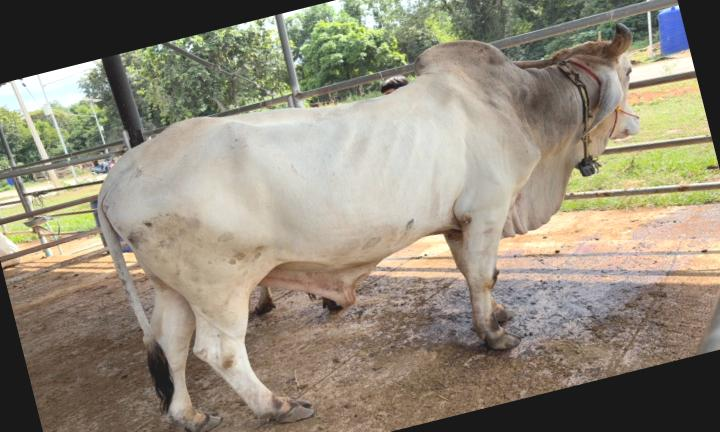Brahman: (98, 23, 638, 432)
